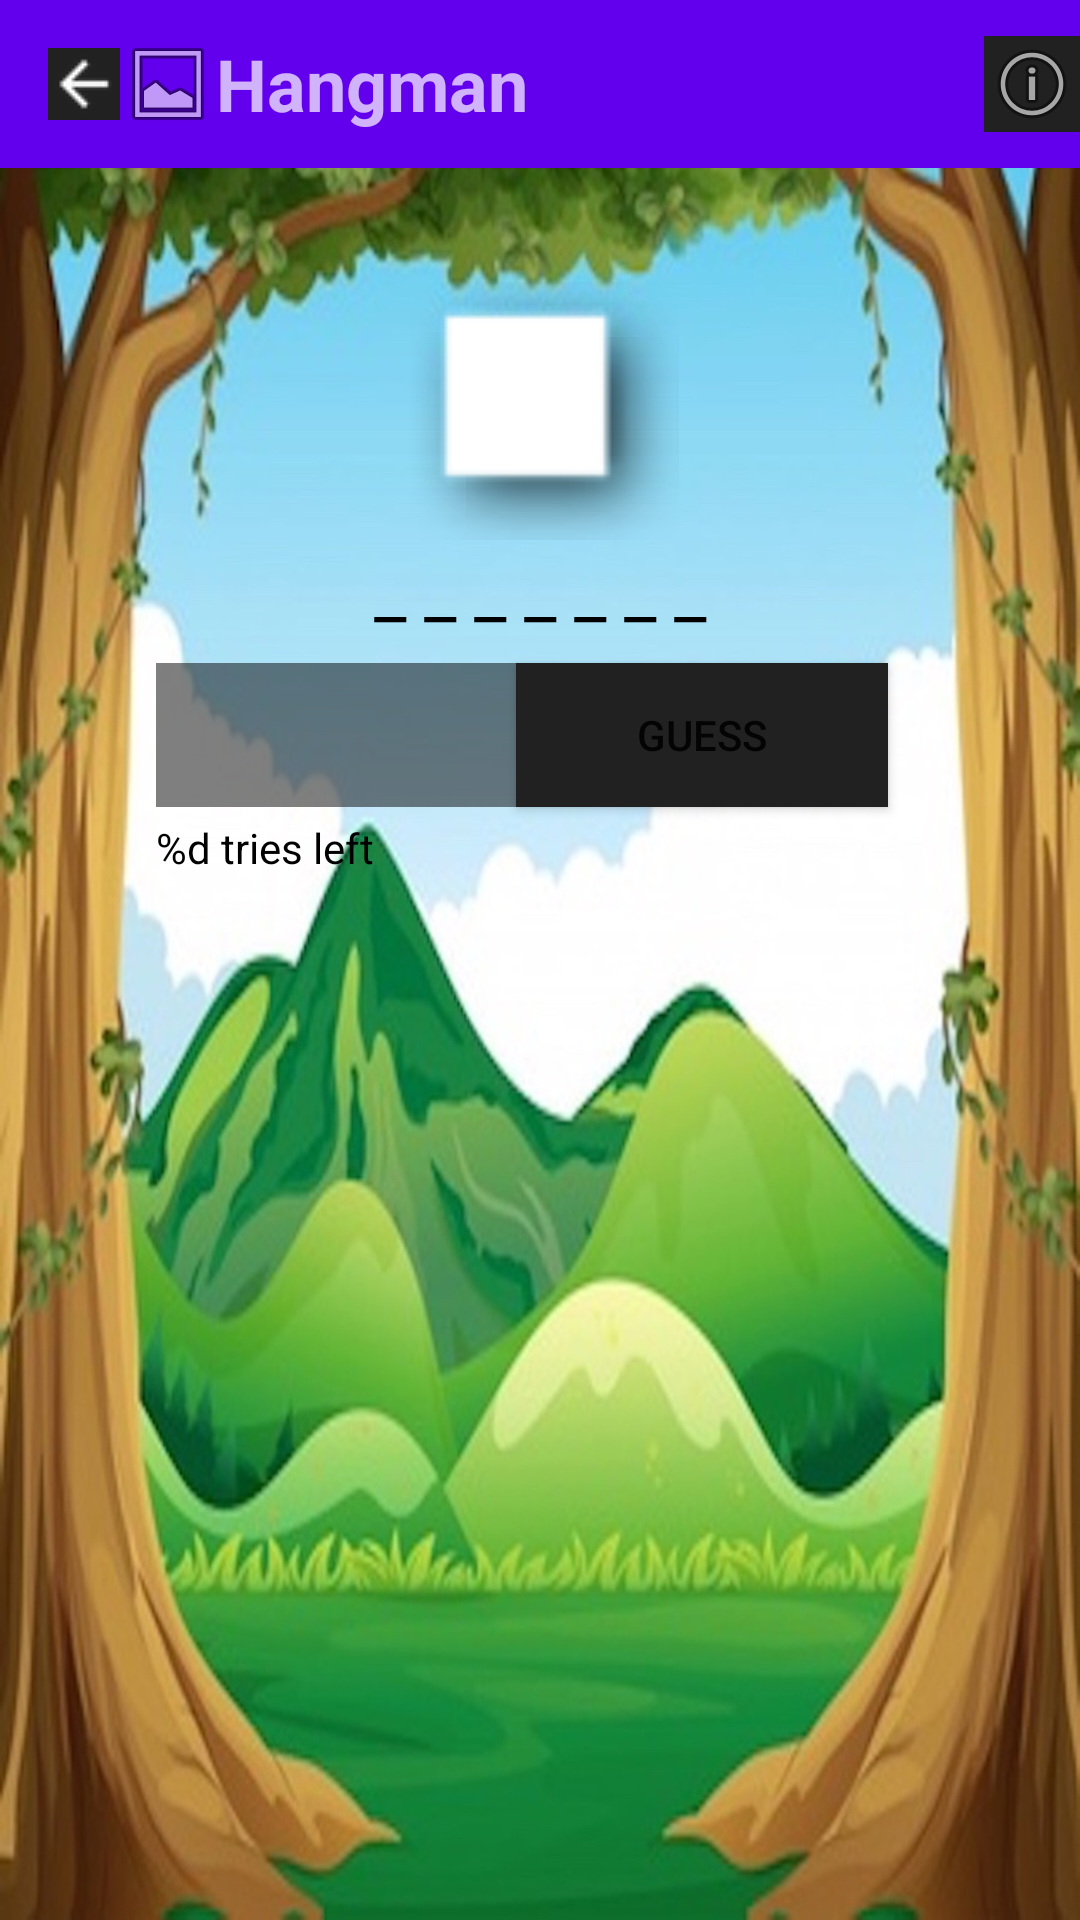

Where icons sit on this 1080px x 1920px app screen, as (x1, y1, x2, y2):
Go back to main menu: (48, 48, 120, 120)
info button: (984, 36, 1080, 132)
